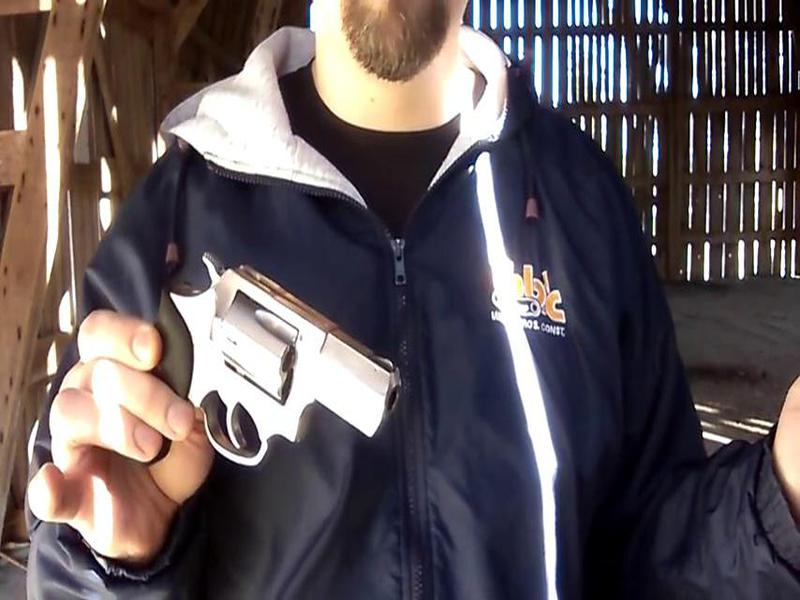Revolver: (119, 243, 405, 499)
